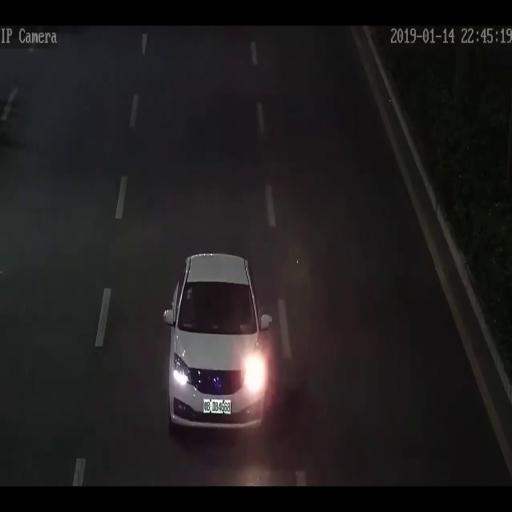License plate: (203, 399, 231, 415)
Vehicle: (163, 253, 272, 431)
